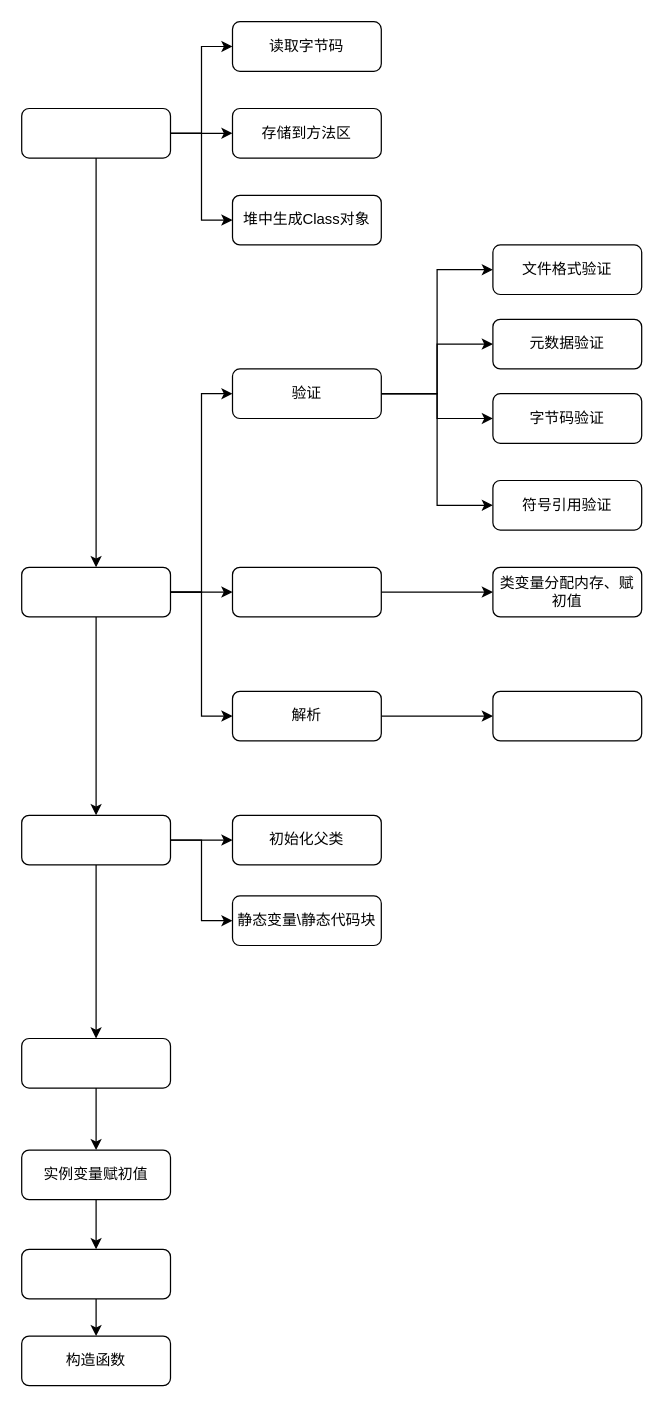
This 663x1407 diagram has some shape labels left out. The centre of each missing label's shape, as x and y in pixels:
准备: point (306, 591)
初始化: point (95, 839)
加载: point (95, 132)
堆上为对象分配内存: point (95, 1062)
实例变量\实例代码块: point (95, 1273)
符号引用转直接引用: point (567, 715)
连接: point (95, 591)
